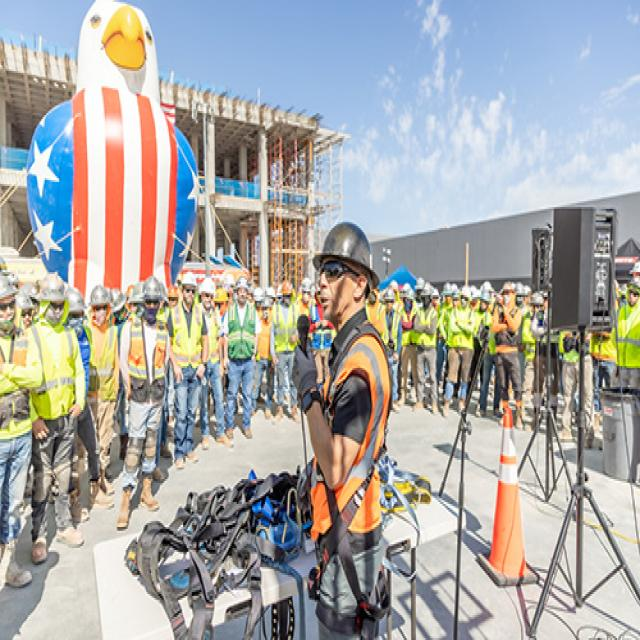goggles: (320, 260, 375, 282)
helmet: (312, 220, 380, 304)
vest: (311, 333, 396, 552)
